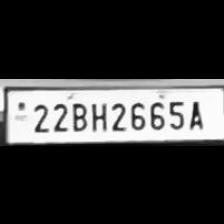2: (28, 99, 50, 133), (50, 98, 68, 132), (107, 98, 125, 132)
5: (166, 96, 186, 130)
6: (126, 97, 144, 130), (146, 97, 164, 130)
A: (185, 96, 207, 130)
B: (68, 98, 88, 132)
H: (88, 98, 108, 132)
